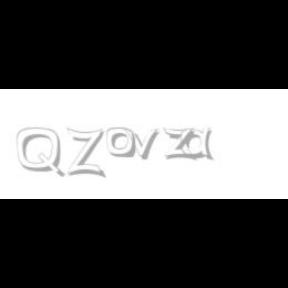Q: (17, 128, 63, 178)
Z: (66, 128, 104, 178)
a: (180, 128, 217, 160)
o: (106, 128, 136, 158)
v: (123, 128, 163, 160)
z: (163, 128, 199, 160)
